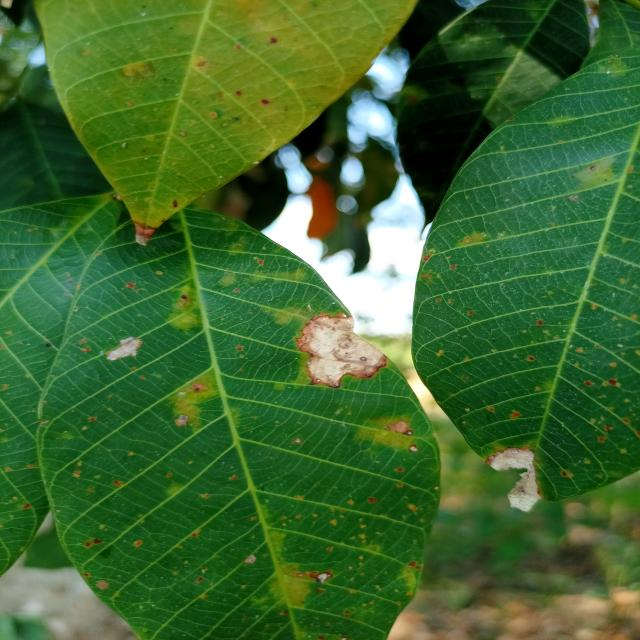Colletotrichum: (316, 571, 332, 584), (408, 444, 418, 452), (293, 437, 302, 444), (406, 430, 414, 436), (360, 356, 366, 361), (46, 343, 51, 347)
Leaf-Blight: (295, 312, 387, 388), (486, 446, 542, 512), (132, 221, 156, 246)
